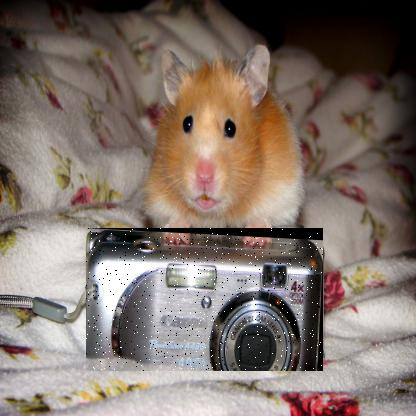Camera: (87, 230, 325, 374)
